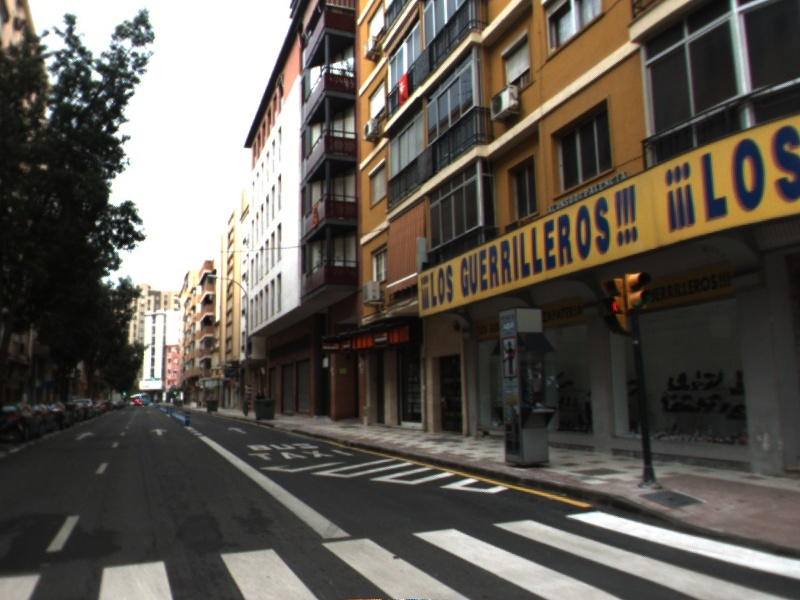STRAIGHT: (72, 429, 98, 443), (225, 424, 249, 436), (147, 426, 171, 437)
